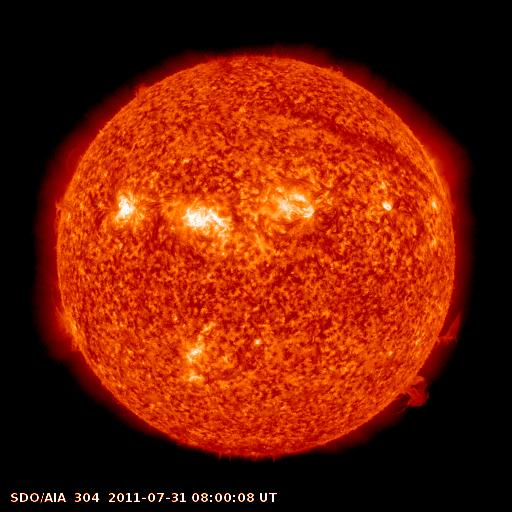prominence: (43, 290, 94, 362), (423, 305, 471, 353), (392, 371, 440, 413), (434, 173, 464, 221), (123, 73, 158, 106), (44, 187, 70, 231)
